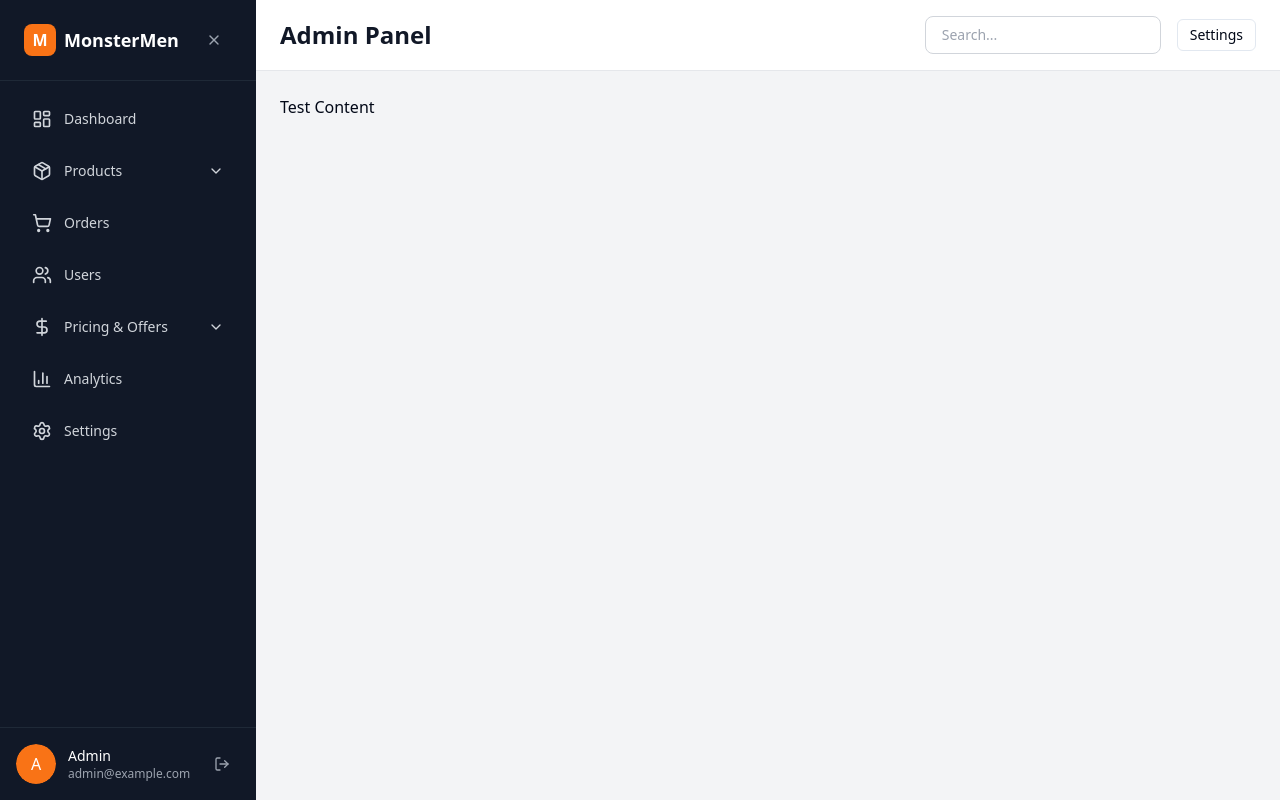
Admin Dashboard Components Test Suite › AdminLayout Component › should handle menu expansion
The width and height of the screenshot is (1280, 800).
Click the button "Products".
click(128, 171)  # box [16,149,240,193]
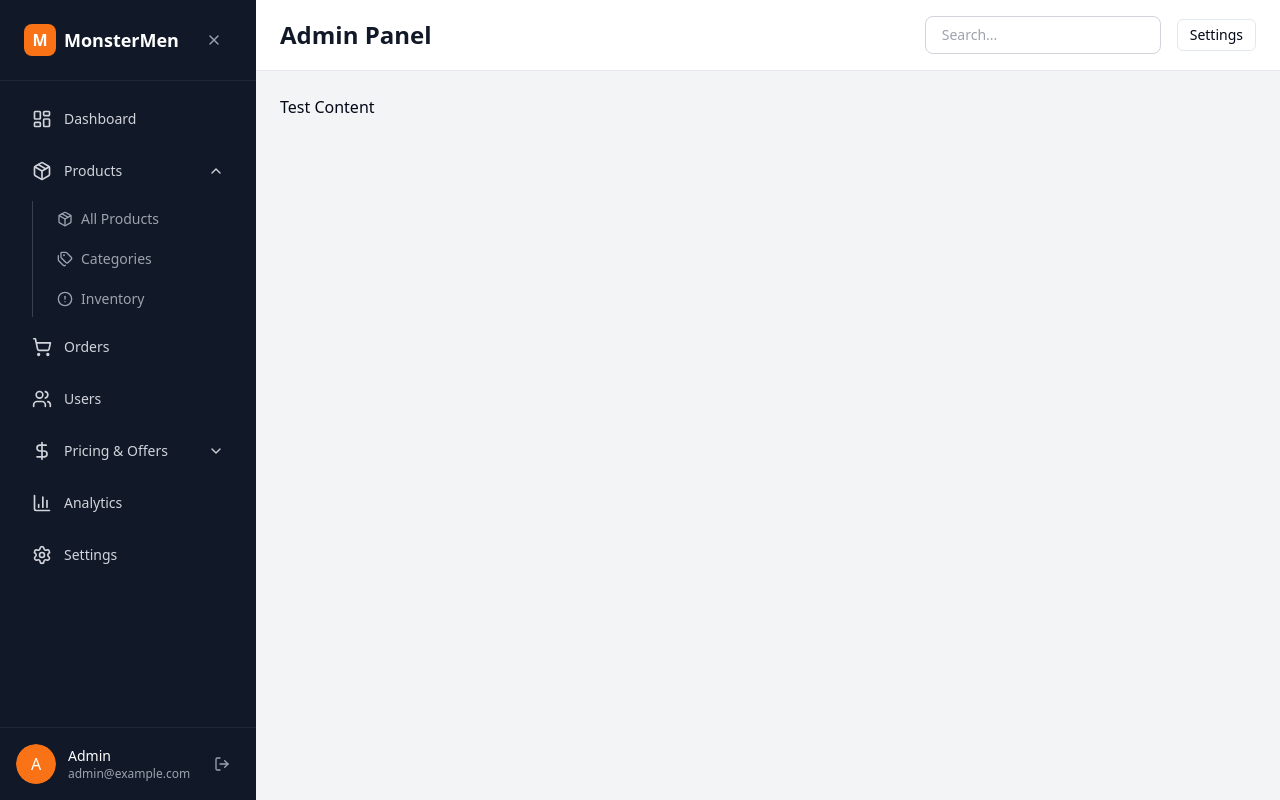
Result: the text "All Products" is shown at [81,209,159,229]
Result: the text "Categories" is shown at [81,249,152,269]
Result: the text "Inventory" is shown at [81,289,144,309]
